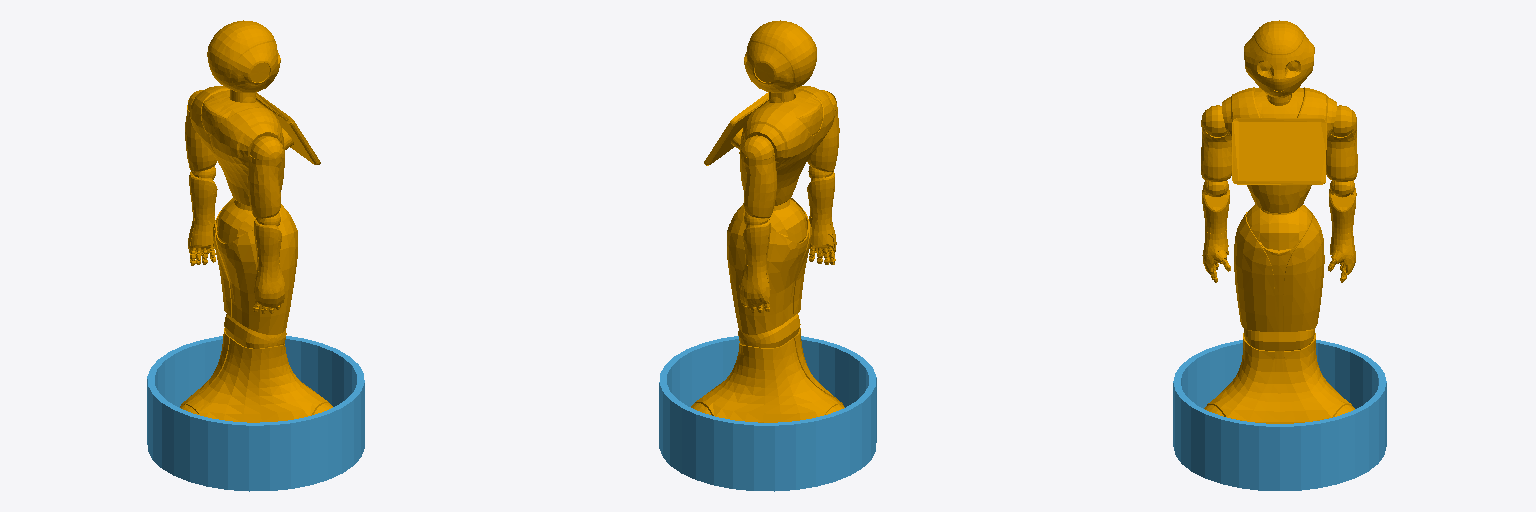
robot.urdf — pepper:
<?xml version="1.0" ?>
<!-- =================================================================================== -->
<!-- |    This document was autogenerated by xacro from xarco/pepper.xacro             | -->
<!-- |    EDITING THIS FILE BY HAND IS NOT RECOMMENDED                                 | -->
<!-- =================================================================================== -->
<!-- Mass and inertia are not correct -->
<robot name="pepper" xmlns:xacro="https://www.ros.org/wiki/xacro">
  <link name="pepper_main">
    <inertial>
      <origin rpy="0 0 0" xyz="0 0 0"/>
      <mass value="50"/>
      <inertia ixx="22.23722770713" ixy="-0.04006835911" ixz="-0.02300035044" iyy="17.58011380849" iyz="-0.02387139307" izz="28.82981259528"/>
    </inertial>
    <visual>
      <geometry>
        <mesh filename="stl/pepper.stl" scale="1 1 1"/>
      </geometry>
      <origin rpy="0 0 1.57079632679" xyz="0 0 0"/>
    </visual>
    <collision>
      <geometry>
        <mesh filename="stl/pepper.stl" scale="1 1 1"/>
      </geometry>
      <origin rpy="0 0 1.57079632679" xyz="0 0 0"/>
    </collision>
  </link>
  <link name="bumper">
    <inertial>
      <origin rpy="0 0 0" xyz="0 0 0"/>
      <mass value="1.5"/>
      <inertia ixx="0.02155077848" ixy="0.00000859993" ixz="0.00000332812" iyy="0.03332543416" iyz="0.00575422413" izz="0.04216038950"/>
    </inertial>
    <visual>
      <geometry>
        <mesh filename="stl/bumper.stl" scale="1 1 1"/>
      </geometry>
      <origin rpy="0 0 0" xyz="0 0 0"/>
    </visual>
    <collision>
      <geometry>
        <mesh filename="stl/bumper.stl" scale="1 1 1"/>
      </geometry>
      <origin rpy="0 0 0" xyz="0 0 0"/>
    </collision>
  </link>
  <joint name="pepper_main_to_bumper" type="fixed">
    <parent link="pepper_main"/>
    <child link="bumper"/>
    <origin xyz="0 0 0"/>
    <axis xyz="1 0 0"/>
  </joint>
</robot>

--- Render facts (derived) ---
Views: 3 orthographic renders of the robot side by side, from view 1: azimuth 30°, elevation 25°; view 2: azimuth 150°, elevation 25°; view 3: azimuth 270°, elevation 25°.
Model pepper with 2 links and 1 joints (1 fixed), rooted at pepper_main, posed every joint at zero.
Links seen in each view (by area): view 1: pepper_main, bumper; view 2: pepper_main, bumper; view 3: pepper_main, bumper.
Boxes of the visible links, x1,y1,x2,y2 form: pepper_main: [180, 20, 332, 422]; bumper: [147, 336, 364, 491]; pepper_main: [691, 20, 844, 422]; bumper: [659, 336, 876, 491]; pepper_main: [1201, 20, 1357, 423]; bumper: [1173, 340, 1386, 490].
Size in the robot's own frame: 0.6 by 0.6 by 1.29 metres.
Meshes: 2 distinct files referenced, 2 mesh visuals loaded (2 binary STL).